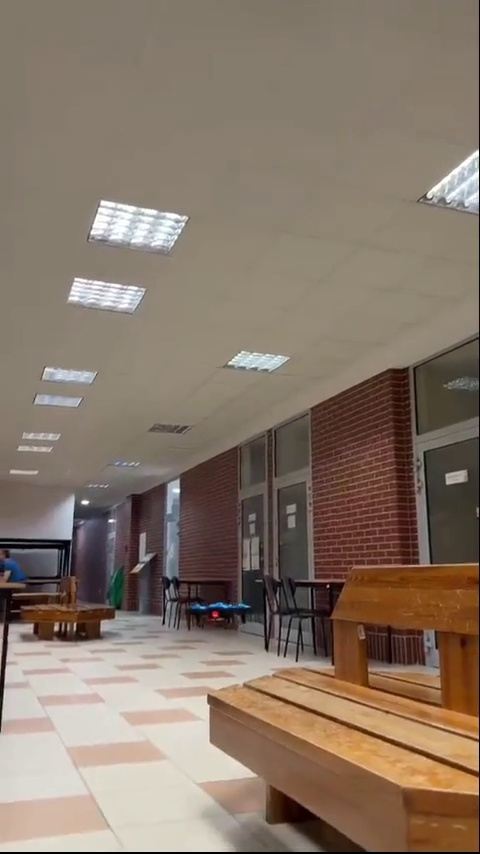drone: (182, 601, 253, 629)
